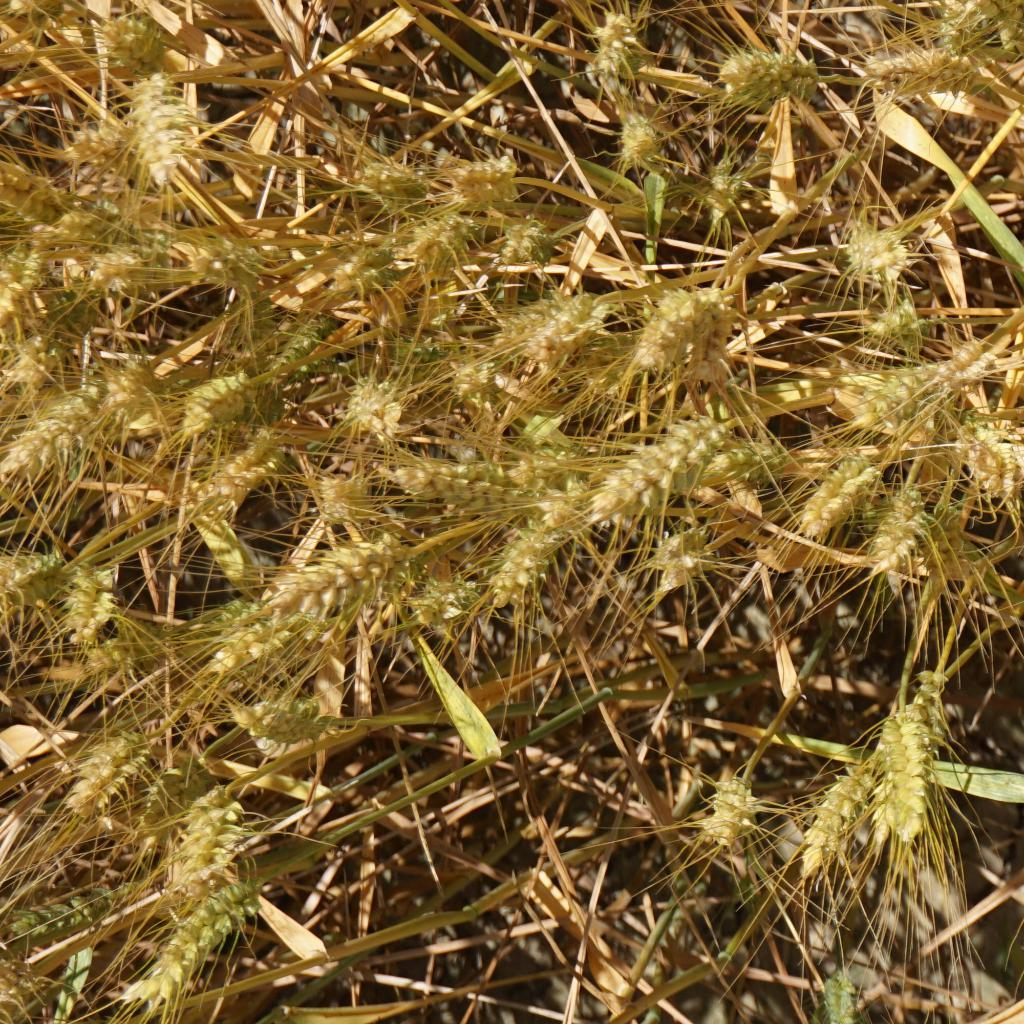0-0: (615, 414, 722, 517), (0, 387, 104, 486), (148, 892, 252, 983), (62, 728, 154, 822), (269, 549, 385, 623), (125, 65, 201, 175), (871, 705, 929, 839), (711, 47, 832, 107), (871, 485, 941, 588), (0, 163, 103, 232), (643, 288, 709, 384), (797, 766, 856, 873), (960, 412, 1022, 513), (92, 346, 163, 434), (391, 453, 498, 509), (862, 44, 973, 97), (179, 783, 243, 873), (7, 899, 130, 943), (648, 515, 715, 595), (229, 687, 343, 734), (686, 279, 739, 380), (189, 230, 276, 291), (178, 371, 258, 437), (363, 151, 446, 214), (263, 316, 328, 395), (93, 4, 186, 59), (522, 297, 599, 363), (493, 522, 557, 600), (412, 563, 479, 637), (199, 453, 276, 517), (0, 244, 55, 333), (338, 374, 407, 444), (186, 589, 264, 650), (503, 435, 576, 500), (0, 339, 68, 408), (323, 235, 404, 290), (456, 354, 514, 429), (812, 456, 869, 531), (309, 466, 370, 536), (833, 216, 903, 275), (50, 570, 123, 626), (695, 778, 759, 839), (400, 201, 460, 263), (862, 290, 942, 336), (0, 553, 66, 608), (71, 243, 139, 296), (451, 146, 525, 194), (711, 436, 778, 489), (489, 212, 546, 271), (609, 116, 668, 172), (933, 344, 1004, 388), (80, 622, 141, 669), (866, 372, 922, 421), (596, 17, 640, 77), (954, 0, 1024, 37), (384, 333, 438, 375), (0, 0, 64, 35), (820, 972, 855, 1024), (704, 173, 748, 209)
